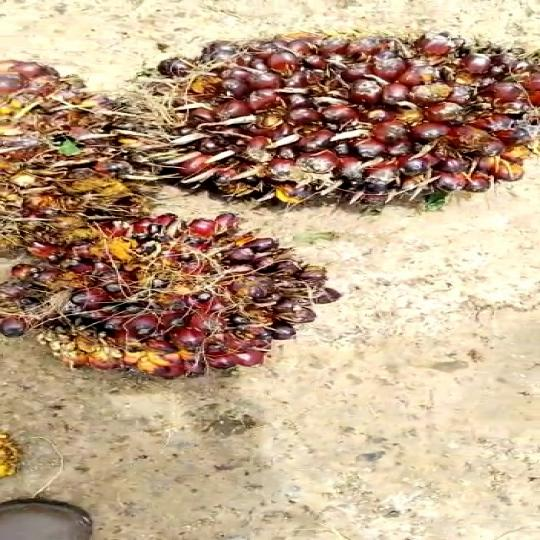masak: (105, 33, 540, 215), (0, 207, 356, 383)
